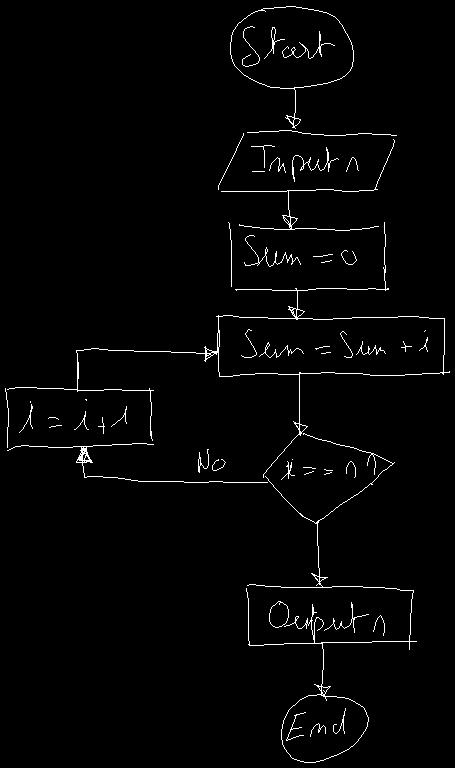arrow: (76, 446, 267, 482), (76, 346, 217, 391), (311, 520, 327, 586), (293, 372, 307, 435), (314, 642, 330, 696), (285, 88, 300, 128), (282, 190, 297, 229), (288, 288, 304, 319)
data: (218, 130, 396, 191)
decision: (263, 432, 394, 524)
process: (216, 315, 449, 376), (246, 584, 416, 649), (228, 222, 388, 290), (5, 387, 153, 450)
terminator: (230, 6, 353, 88), (281, 694, 368, 762)
text: (241, 329, 427, 357), (269, 601, 384, 642), (251, 145, 358, 181), (242, 26, 334, 66), (19, 399, 126, 433), (244, 235, 356, 266), (281, 454, 375, 484), (286, 708, 345, 740), (198, 449, 225, 472)
